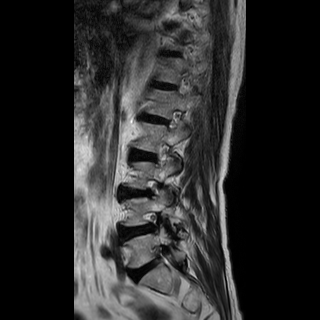RFS0: (160, 105, 184, 133)
